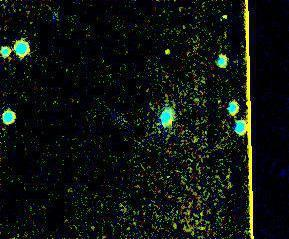star: (155, 38, 185, 68)
